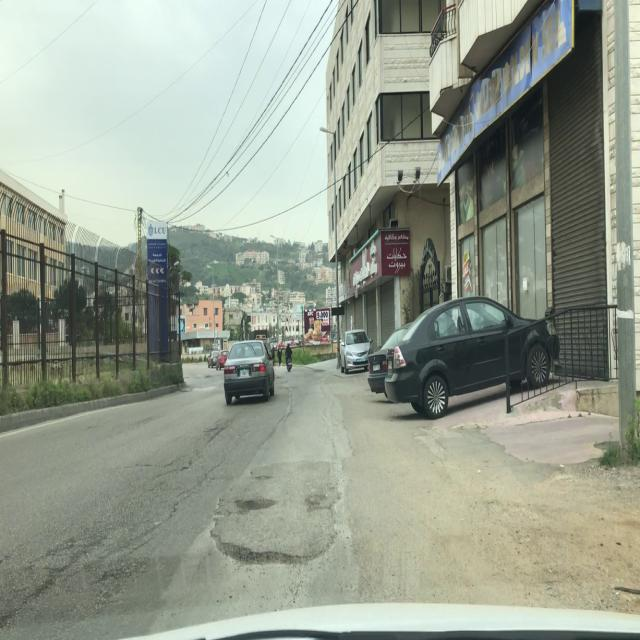Pothole: (219, 546, 296, 563), (233, 497, 277, 515), (286, 386, 298, 390), (275, 376, 282, 379)
